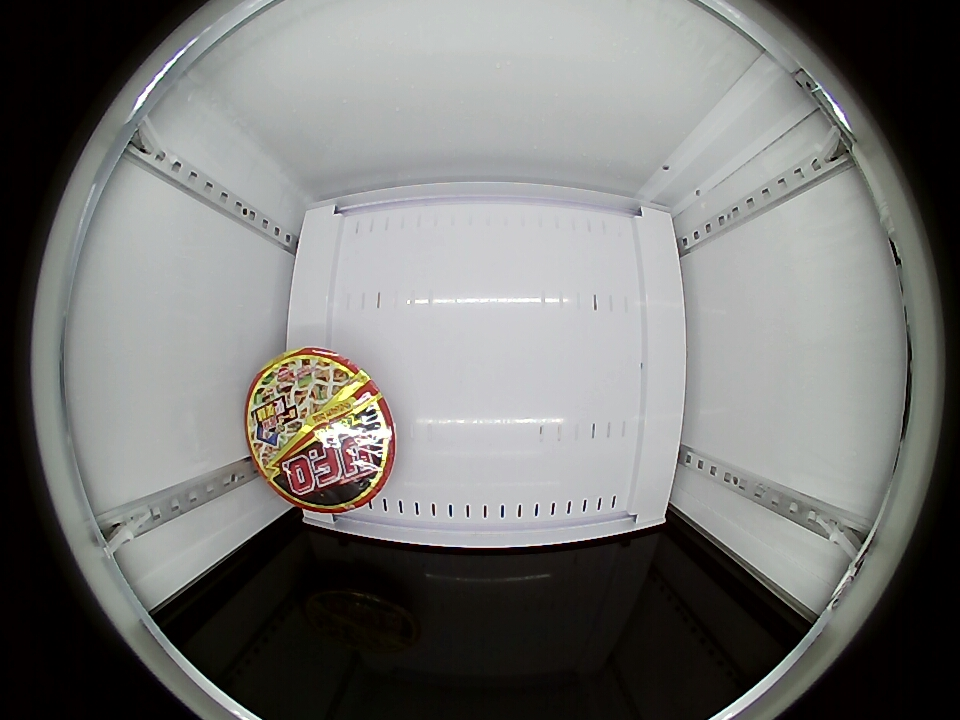ufo2: (245, 347, 396, 514)
